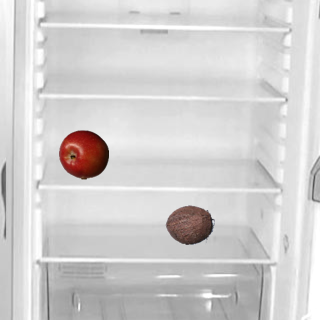Apple Braeburn: (58, 129, 108, 179)
Cocos: (164, 199, 214, 249)
